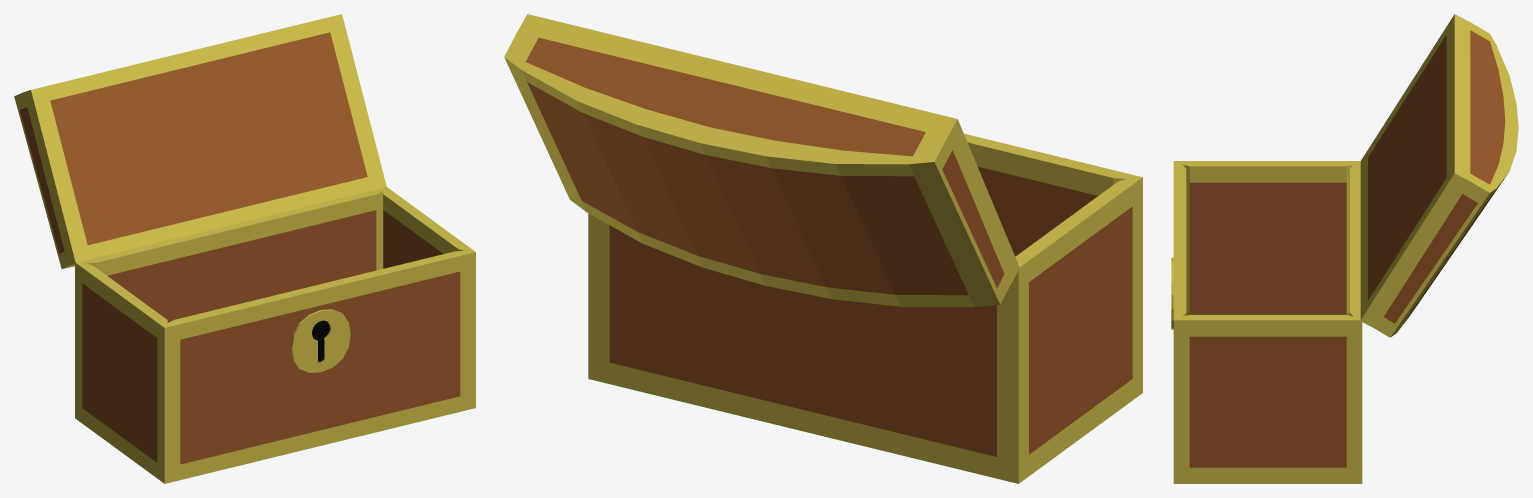
The model's file is Coffre.fbx.
The picture shows the model from 3 angles, left to right: view 1: azimuth 30°, elevation 25°; view 2: azimuth 150°, elevation 25°; view 3: azimuth 270°, elevation 25°; orthographic projection. The views are drawn at different scales.
Parts seen in each view (by area): view 1: Cube, Cube.001, Plane; view 2: Cube, Cube.001; view 3: Cube, Cube.001.
Part boxes in pixels (left/top/right/bottom): Cube: left=75, top=187, right=475, bottom=483; Cube.001: left=14, top=14, right=386, bottom=268; Plane: left=291, top=309, right=350, bottom=372; Cube: left=588, top=133, right=1142, bottom=483; Cube.001: left=504, top=14, right=1019, bottom=307; Cube: left=1173, top=161, right=1362, bottom=483; Cube.001: left=1360, top=14, right=1518, bottom=337.
Bounding box in the file's own units: 200 × 182 × 184.
